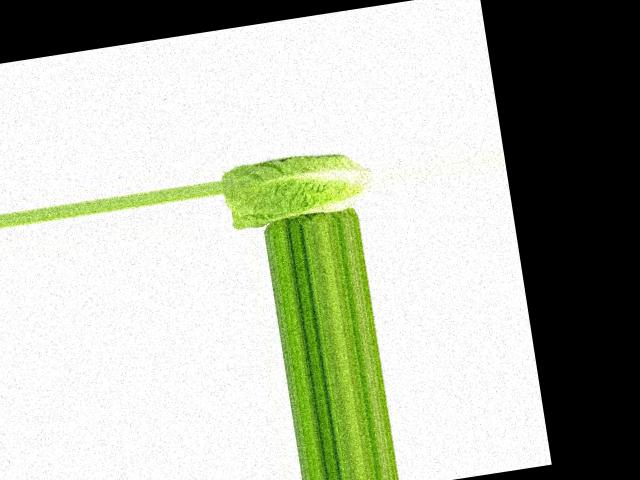lettuce: (216, 135, 376, 229)
